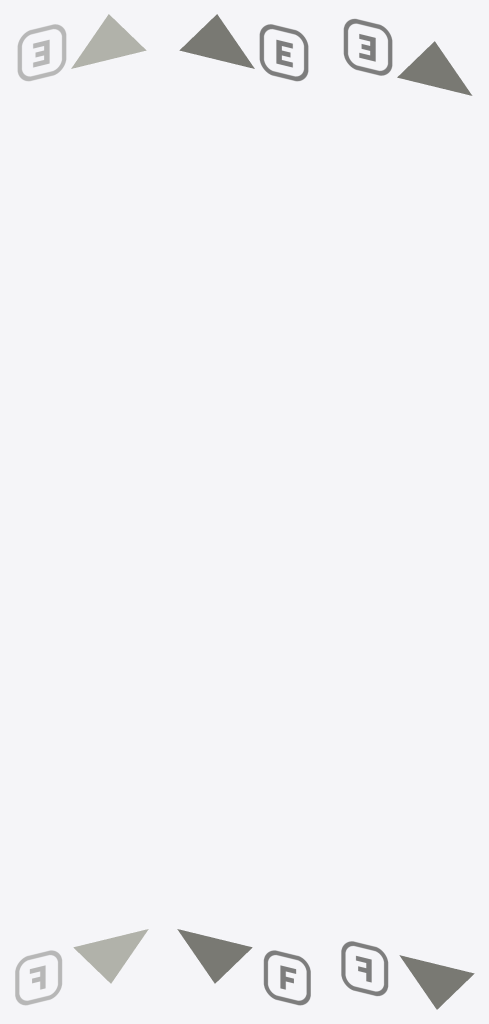
The model's file is collection_menu_bg.glb.
The picture shows the model from 3 angles, left to right: view 1: azimuth 30°, elevation 25°; view 2: azimuth 150°, elevation 25°; view 3: azimuth 330°, elevation 25°; orthographic projection.
Visible parts, largest first — view 1: Plane.001; view 2: Plane.001; view 3: Plane.001.
Boxes of the visible parts, box(x1,y1,x2,y2) form: Plane.001: box(15, 14, 148, 1005); Plane.001: box(177, 14, 310, 1005); Plane.001: box(341, 18, 474, 1009).
Size of the model in its own units: 0.2412 by 1.67 by 3.73e-09.
1 material, 1 textured.
